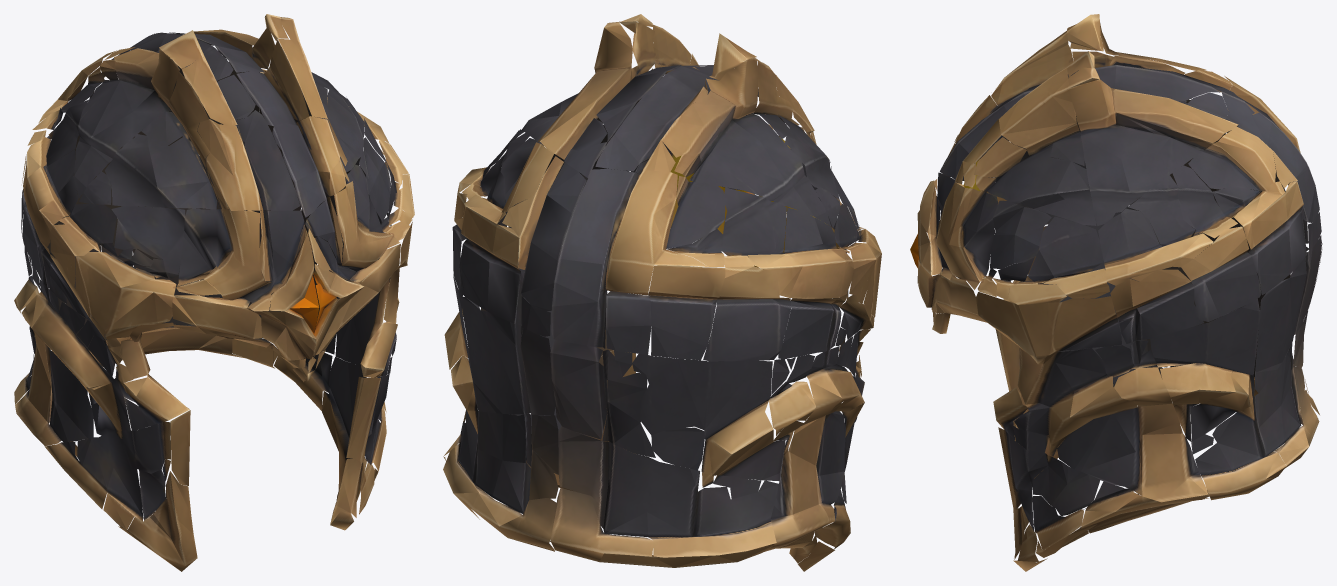
File: starforged_helm.glb
3 renders of one model, left to right at view 1: azimuth 30°, elevation 25°; view 2: azimuth 150°, elevation 25°; view 3: azimuth 270°, elevation 25°, orthographic. The views are drawn at different scales.
Visible parts, largest first — view 1: tripo_node_f779b202-2f77-43ca-bcab-e97a11f3d2ae; view 2: tripo_node_f779b202-2f77-43ca-bcab-e97a11f3d2ae; view 3: tripo_node_f779b202-2f77-43ca-bcab-e97a11f3d2ae.
Part boxes in pixels (x1,y1,x2,y2): tripo_node_f779b202-2f77-43ca-bcab-e97a11f3d2ae: (14, 14, 414, 571); tripo_node_f779b202-2f77-43ca-bcab-e97a11f3d2ae: (443, 14, 881, 571); tripo_node_f779b202-2f77-43ca-bcab-e97a11f3d2ae: (910, 14, 1322, 571).
Bounding box in the file's own units: 0.3955 × 0.5527 × 0.4128.
1 material, 1 textured.
